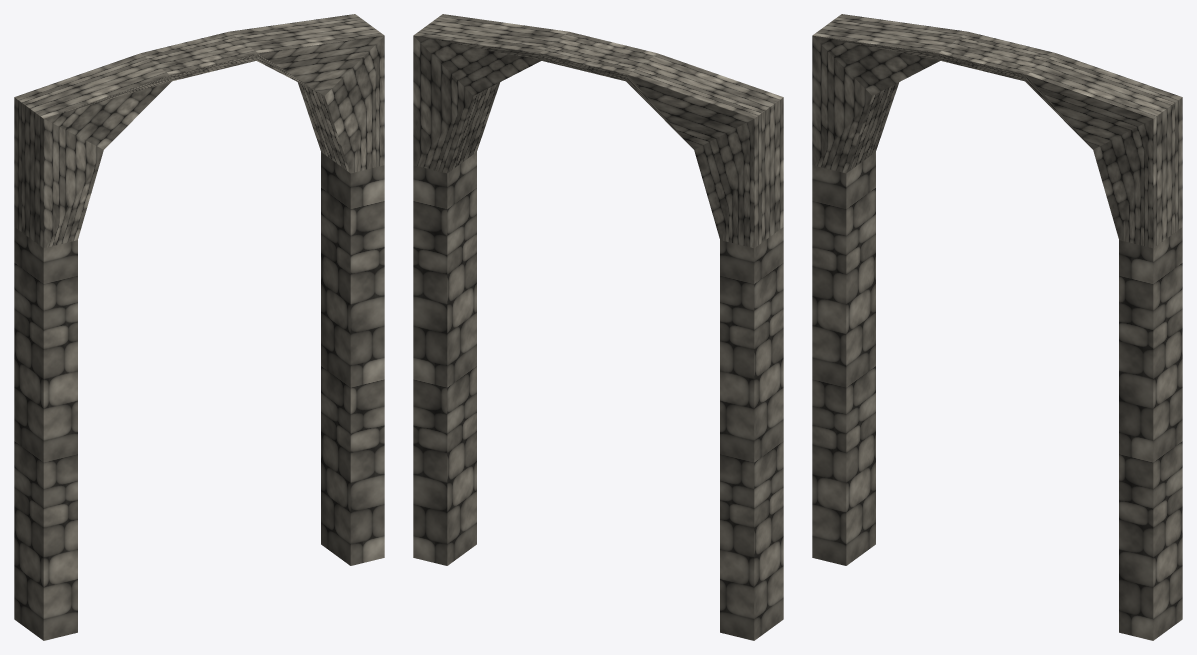
Rendered from Bridge_Stone_Arch_1_LOD2.gltf.
3 renders of one model, left to right at view 1: azimuth 30°, elevation 25°; view 2: azimuth 150°, elevation 25°; view 3: azimuth 330°, elevation 25°, orthographic.
Parts seen in each view (by area): view 1: Bridge_Stone_Arch_1_LOD2; view 2: Bridge_Stone_Arch_1_LOD2; view 3: Bridge_Stone_Arch_1_LOD2.
Part boxes in pixels (x1=…): Bridge_Stone_Arch_1_LOD2: x1=14, y1=14, x2=384, y2=640; Bridge_Stone_Arch_1_LOD2: x1=413, y1=14, x2=783, y2=640; Bridge_Stone_Arch_1_LOD2: x1=812, y1=14, x2=1182, y2=640.
Bounding box in the file's own units: 2 × 3 × 0.3.
1 material, 1 textured.
